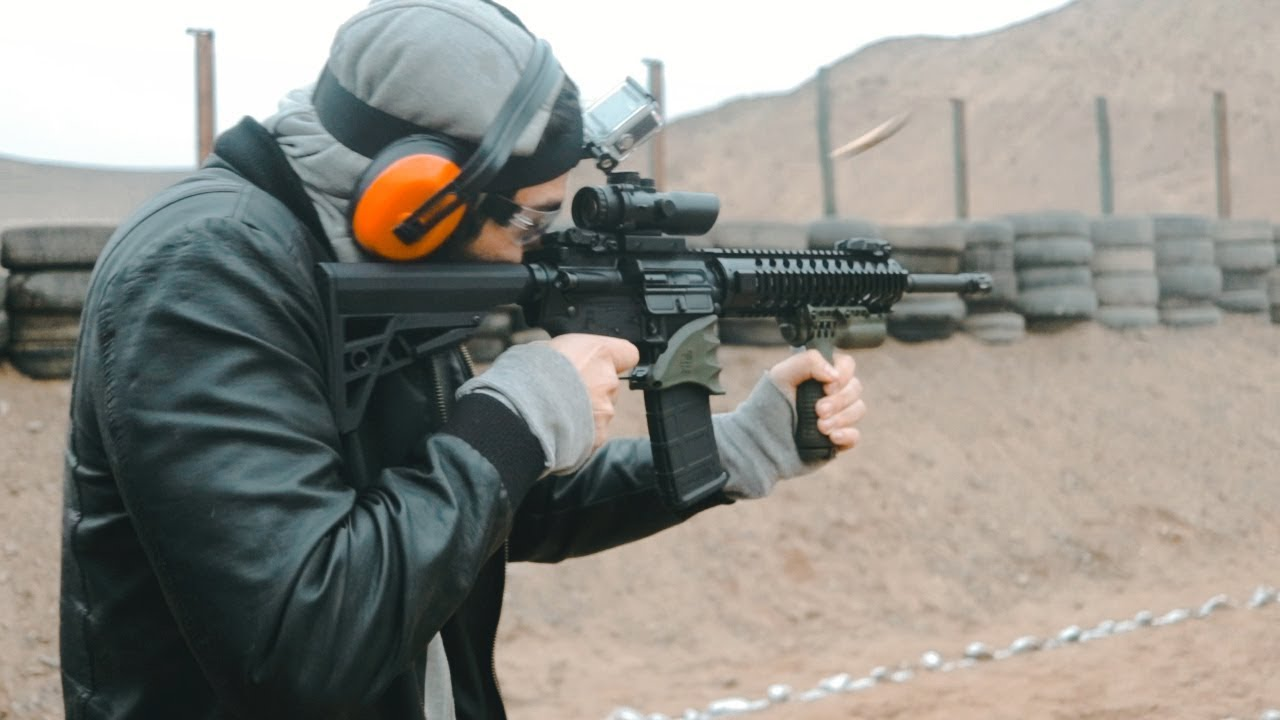Arma Real: (316, 179, 1000, 520)
